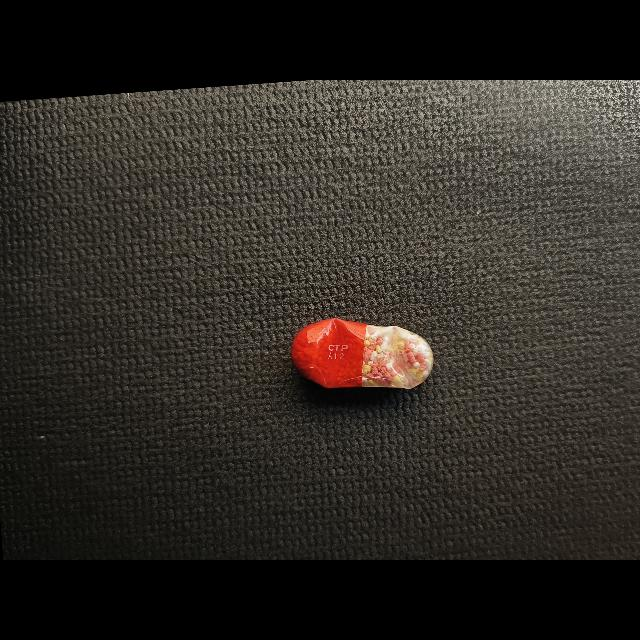Defective Capsule: (290, 318, 434, 389)
